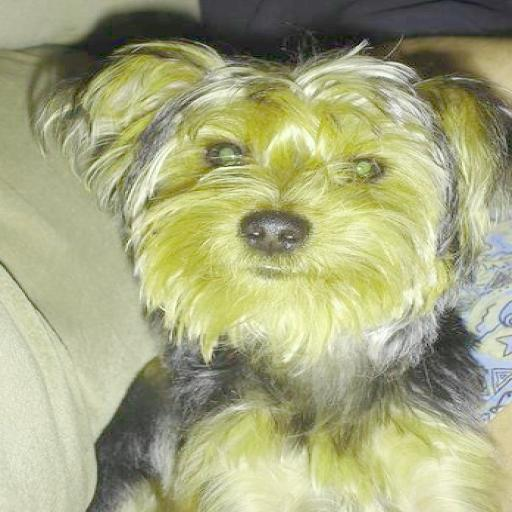dog_face: (87, 64, 453, 326)
